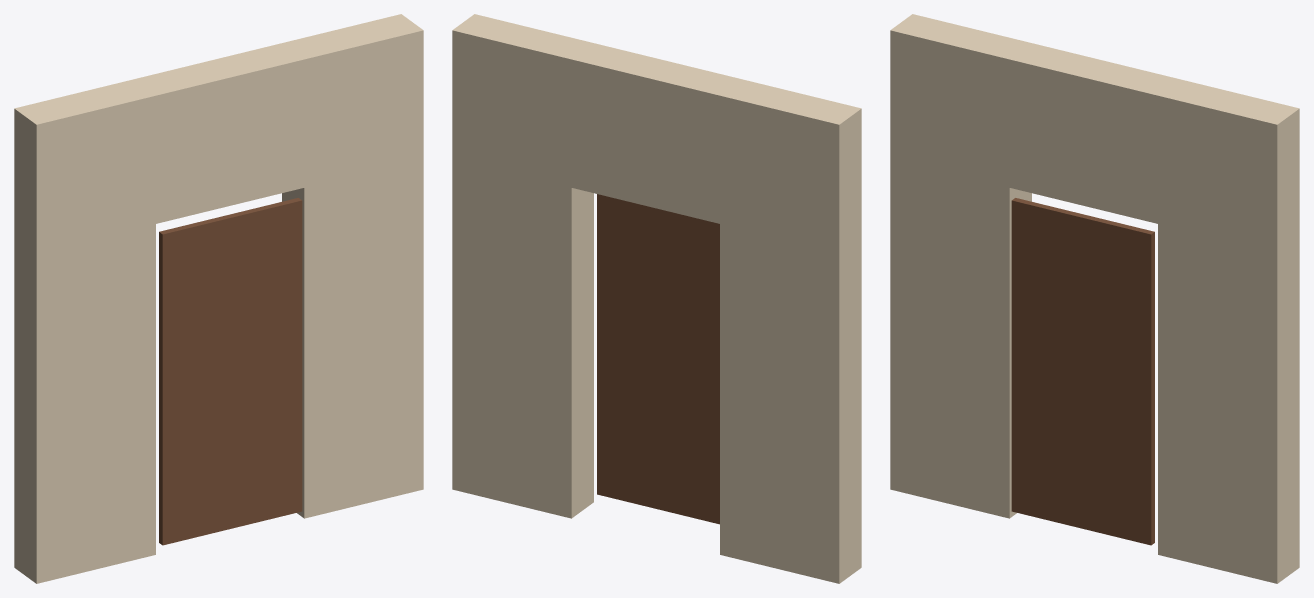
Rendered from bh_traditional_timber_door_01_lod0.glb.
3 renders of one model, left to right at view 1: azimuth 30°, elevation 25°; view 2: azimuth 150°, elevation 25°; view 3: azimuth 330°, elevation 25°, orthographic.
Parts seen in each view (by area): view 1: bh_traditional_timber_door_01_left, bh_traditional_timber_door_01_right, bh_traditional_timber_door_01_infill, bh_traditional_timber_door_01_top; view 2: bh_traditional_timber_door_01_left, bh_traditional_timber_door_01_right, bh_traditional_timber_door_01_infill, bh_traditional_timber_door_01_top; view 3: bh_traditional_timber_door_01_right, bh_traditional_timber_door_01_left, bh_traditional_timber_door_01_infill, bh_traditional_timber_door_01_top.
Boxes of the visible parts, box(x1,y1,x2,y2) form: bh_traditional_timber_door_01_left: box(14, 79, 155, 583); bh_traditional_timber_door_01_right: box(282, 14, 423, 518); bh_traditional_timber_door_01_infill: box(159, 198, 302, 545); bh_traditional_timber_door_01_top: box(134, 43, 304, 223); bh_traditional_timber_door_01_left: box(720, 79, 861, 583); bh_traditional_timber_door_01_right: box(452, 14, 593, 518); bh_traditional_timber_door_01_infill: box(597, 194, 719, 524); bh_traditional_timber_door_01_top: box(571, 43, 741, 223); bh_traditional_timber_door_01_right: box(1158, 79, 1299, 583); bh_traditional_timber_door_01_left: box(890, 14, 1031, 518); bh_traditional_timber_door_01_infill: box(1011, 198, 1154, 545); bh_traditional_timber_door_01_top: box(1009, 43, 1179, 223).
Bounding box in the file's own units: 3 × 3.4 × 0.331.
